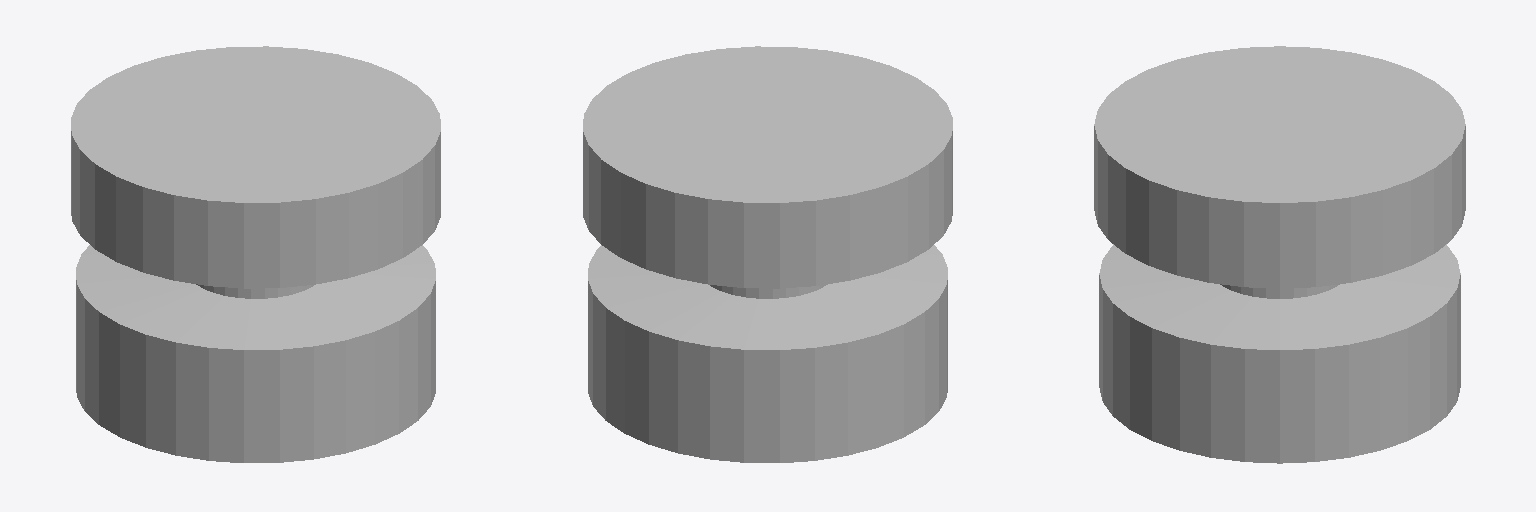
File: leavebutton.obj
3 views of the same model, side by side, from view 1: azimuth 30°, elevation 25°; view 2: azimuth 150°, elevation 25°; view 3: azimuth 270°, elevation 25° (orthographic).
Parts seen in each view (by area): view 1: Cylinder; view 2: Cylinder; view 3: Cylinder.
Boxes of the visible parts, x1,y1,x2,y2 form: Cylinder: [71, 46, 440, 462]; Cylinder: [583, 46, 952, 462]; Cylinder: [1094, 46, 1465, 463].
Size of the model in its own units: 2 by 1.56 by 2.